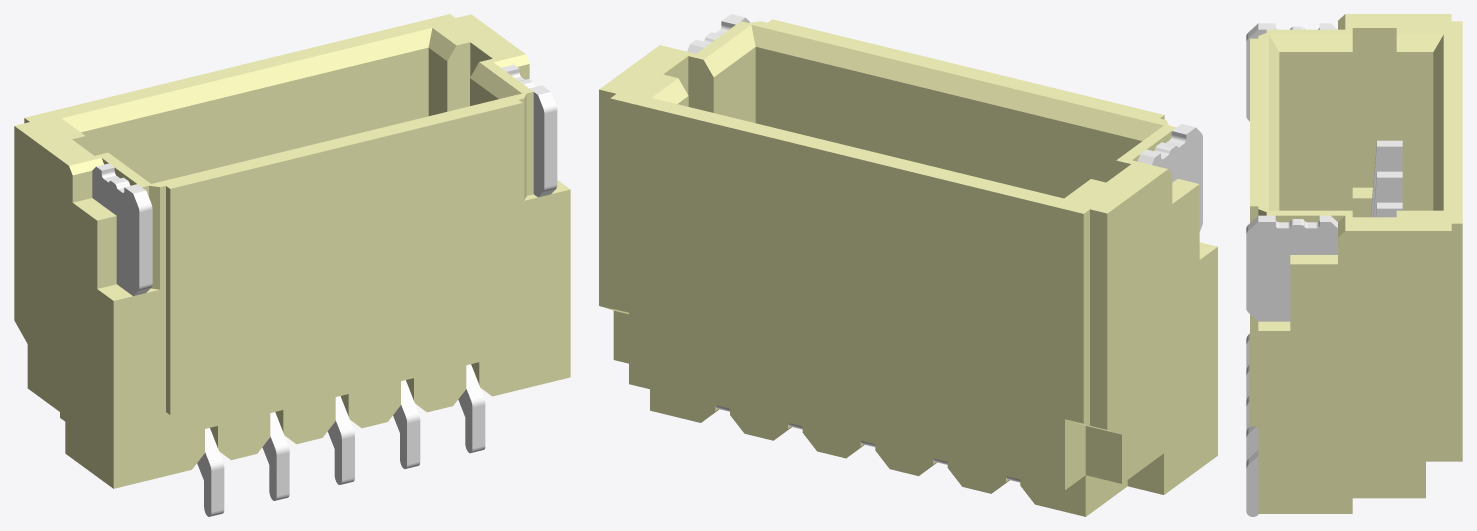
The model's file is sfe-jst_smd_1.0mm-5.glb.
3 renders of one model, left to right at view 1: azimuth 30°, elevation 25°; view 2: azimuth 150°, elevation 25°; view 3: azimuth 270°, elevation 25°, orthographic. The views are drawn at different scales.
Parts seen in each view (by area): view 1: 1_1_0.5_0, 1_1_1_0.85; view 2: 1_1_0.5_0, 1_1_1_0.85; view 3: 1_1_0.5_0, 1_1_1_0.85.
Boxes of the visible parts, bbox=[...] form: 1_1_0.5_0: bbox=[14, 14, 570, 488]; 1_1_1_0.85: bbox=[92, 64, 557, 516]; 1_1_0.5_0: bbox=[599, 19, 1217, 516]; 1_1_1_0.85: bbox=[687, 14, 1202, 482]; 1_1_0.5_0: bbox=[1250, 14, 1462, 513]; 1_1_1_0.85: bbox=[1246, 23, 1402, 516].
Bounding box in the file's own units: 0.7 × 0.495 × 0.295.
